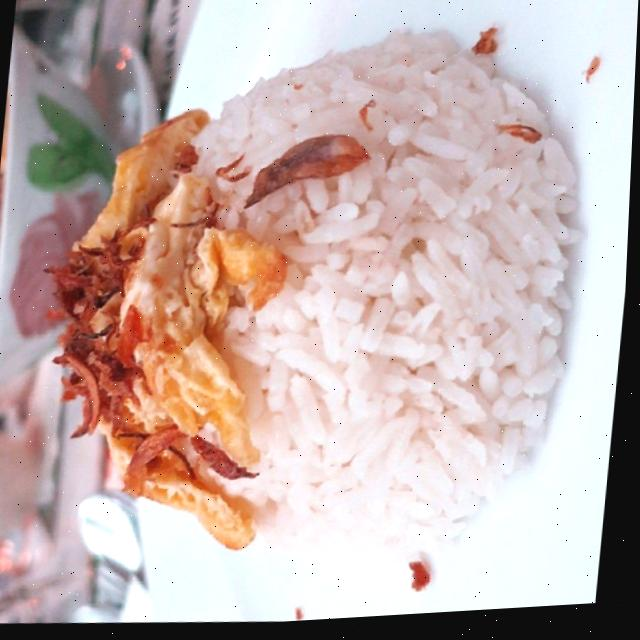米饭主食: (0, 0, 640, 638)
